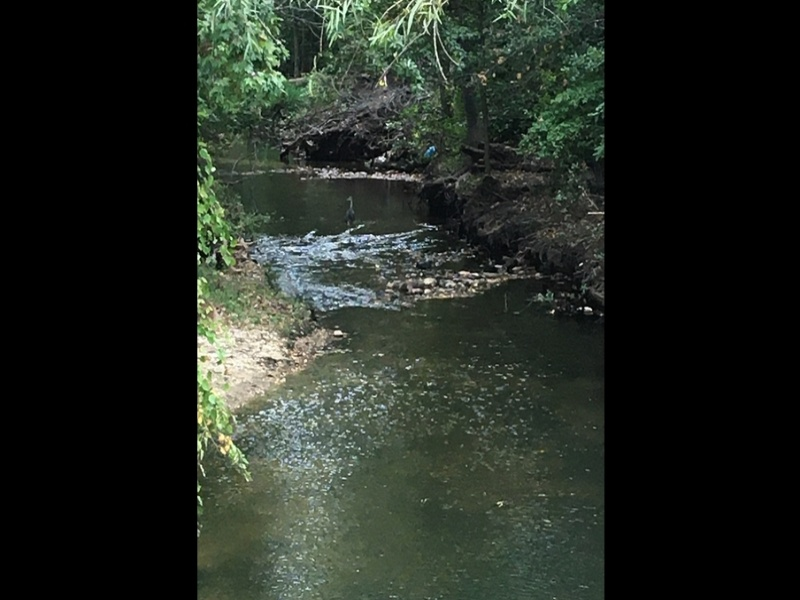heron: (345, 195, 357, 232)
